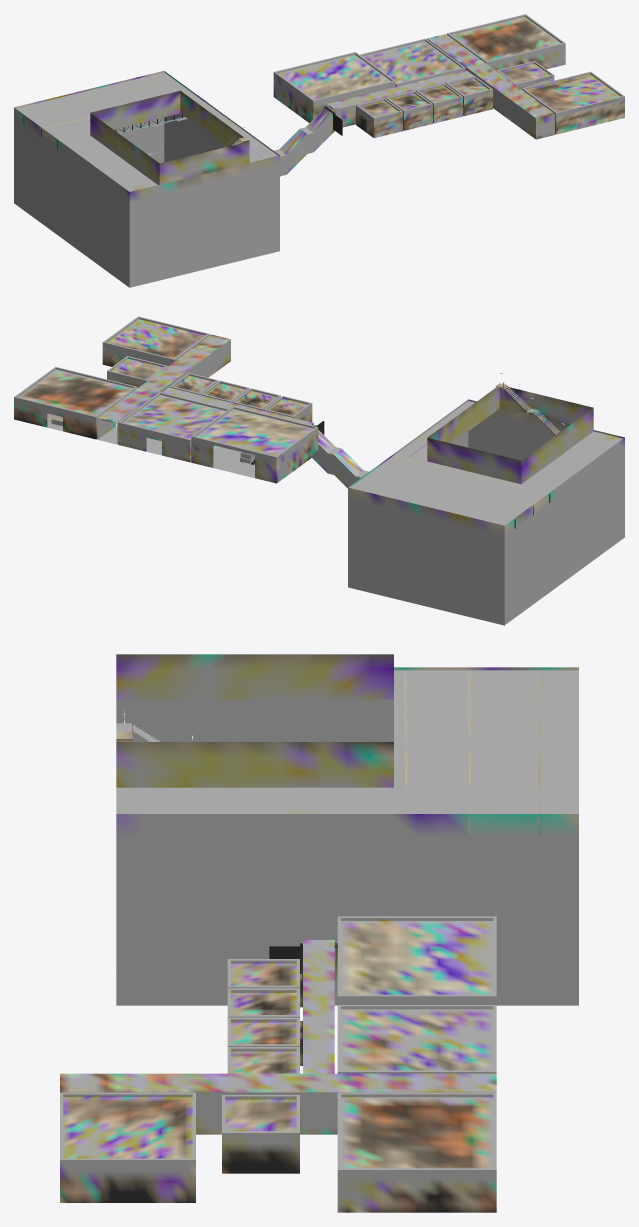
Rendered from ariel-home-undercliff.glb.
The picture shows the model from 3 angles, top to bottom: view 1: azimuth 30°, elevation 25°; view 2: azimuth 150°, elevation 25°; view 3: azimuth 270°, elevation 25°; orthographic projection. The views are drawn at different scales.
Parts seen in each view (by area): view 1: uc_zone_hangar, uc_zone_lower, uc_zone_stair; view 2: uc_zone_hangar, uc_zone_lower, uc_zone_stair; view 3: uc_zone_hangar, uc_zone_lower.
Boxes of the visible parts, x1,y1,x2,y2 form: uc_zone_hangar: (14,71,279,287); uc_zone_lower: (273,14,624,139); uc_zone_stair: (274,106,334,176); uc_zone_hangar: (348,373,624,625); uc_zone_lower: (14,316,324,483); uc_zone_stair: (312,425,368,488); uc_zone_hangar: (116,654,578,1005); uc_zone_lower: (60,916,496,1212).
Size of what is drawn, in the model's own units: 175 by 45.03 by 79.89.
